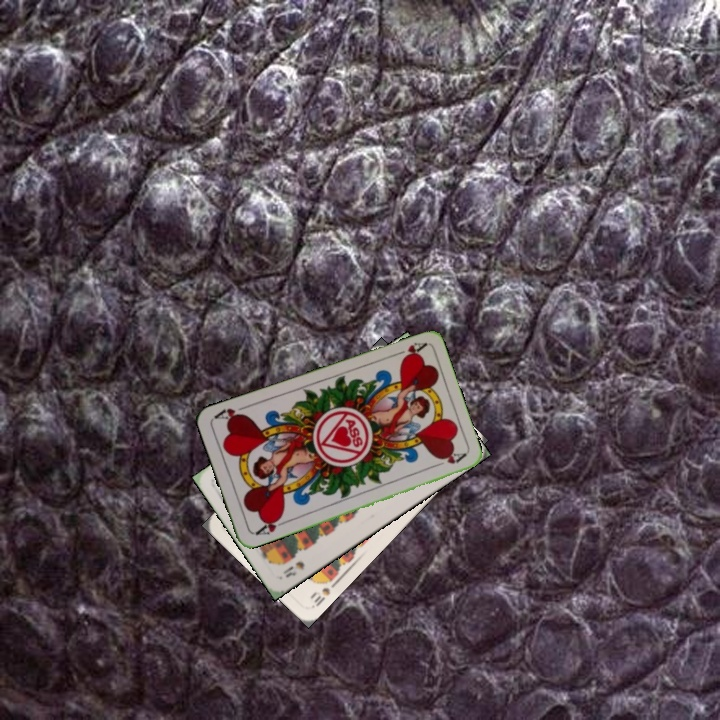HA: (251, 512, 290, 538), (388, 338, 428, 363)
S10: (308, 574, 340, 610)
S8: (279, 557, 307, 580)
